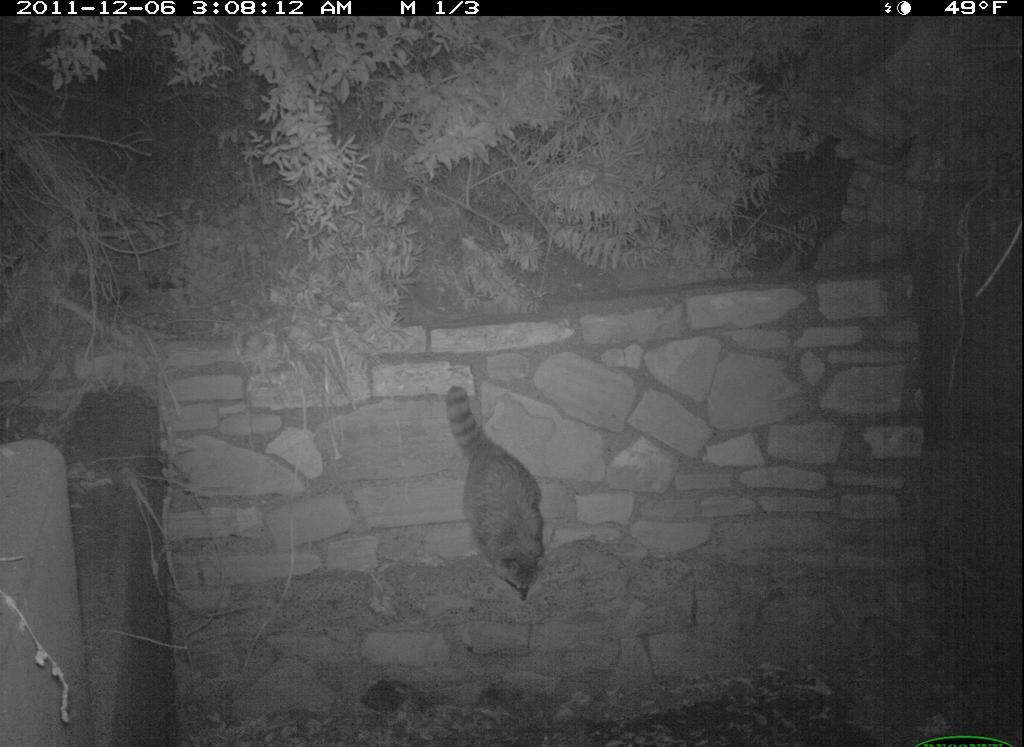raccoon: (432, 378, 568, 607)
